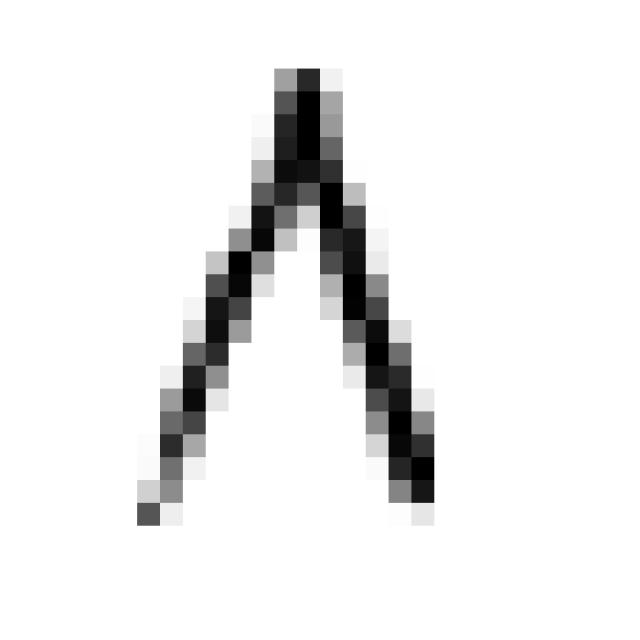8 -eight-: (116, 34, 456, 547)
